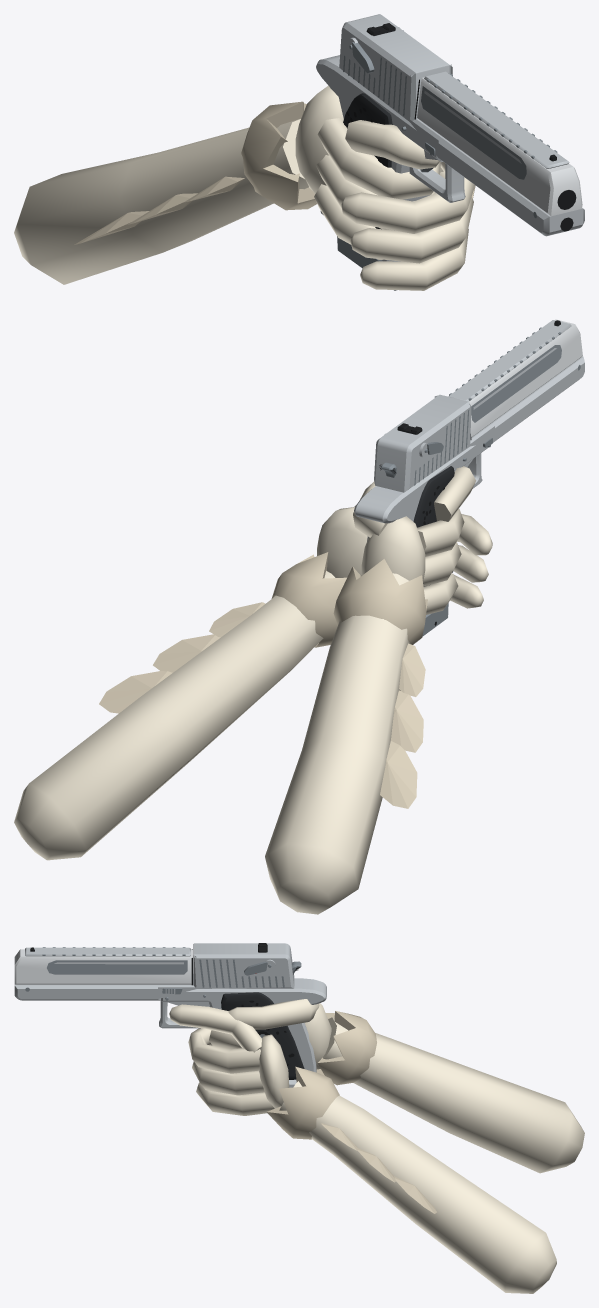
The model's file is deagle.glb.
3 views of the same model, one above another, from view 1: azimuth 30°, elevation 25°; view 2: azimuth 150°, elevation 25°; view 3: azimuth 270°, elevation 25° (orthographic). The views are drawn at different scales.
Parts seen in each view (by area): view 1: DE_HandR, DE, DE_Slide, DE_HandL, DE_Mag; view 2: DE_HandR, DE_HandL, DE, DE_Slide; view 3: DE_HandL, DE_HandR, DE, DE_Slide.
Boxes of the visible parts, bbox=[...] form: DE_HandR: bbox=[14, 85, 440, 284]; DE: bbox=[316, 55, 582, 229]; DE_Slide: bbox=[339, 14, 584, 236]; DE_HandL: bbox=[341, 162, 475, 290]; DE_Mag: bbox=[320, 211, 400, 290]; DE_HandR: bbox=[265, 466, 475, 914]; DE_HandL: bbox=[14, 505, 492, 860]; DE: bbox=[354, 319, 582, 586]; DE_Slide: bbox=[374, 356, 584, 492]; DE_HandL: bbox=[169, 1004, 556, 1293]; DE_HandR: bbox=[209, 999, 584, 1173]; DE: bbox=[14, 947, 326, 1079]; DE_Slide: bbox=[14, 943, 294, 1000].
Bounding box in the file's own units: 0.2803 × 0.2636 × 0.4991.
